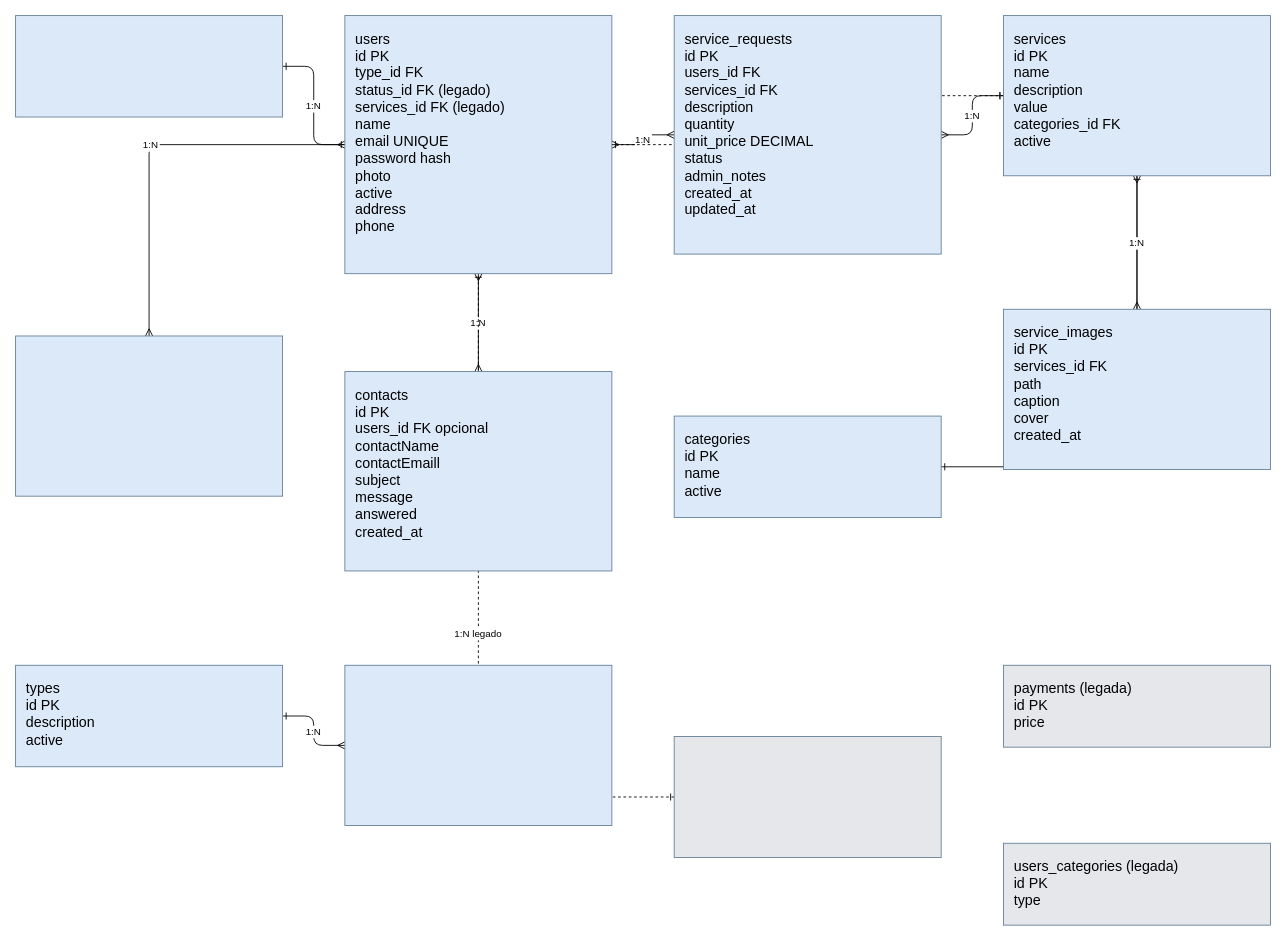
Image size: 1286x941. Some labels were removed from this diagram. Each missing label, with the centre of its shape:
password_resets id PK users_id FK token UNIQUE expires_at used_at created_at: point 149,415
questions id PK types_id FK question answer created_at active: point 478,744
status (legada) id PK details endDate startDate: point 807,797
users_types id PK name active: point 149,66
